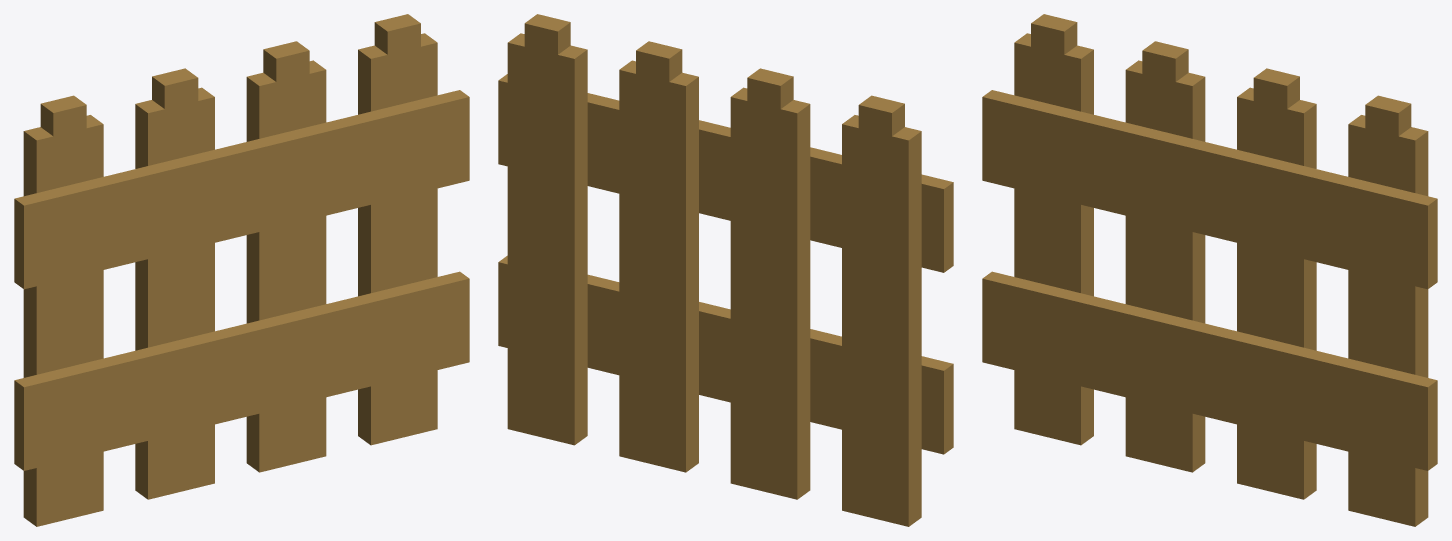
The model's file is fbx_fence.fbx.
3 views of the same model, side by side, from view 1: azimuth 30°, elevation 25°; view 2: azimuth 150°, elevation 25°; view 3: azimuth 330°, elevation 25° (orthographic).
Parts seen in each view (by area): view 1: sm_fence; view 2: sm_fence; view 3: sm_fence.
Boxes of the visible parts, left/top/right/bottom form: sm_fence: left=14, top=14, right=469, bottom=526; sm_fence: left=498, top=14, right=953, bottom=526; sm_fence: left=982, top=14, right=1437, bottom=526.
Size of the model in its own units: 100 by 87.89 by 8.74.
